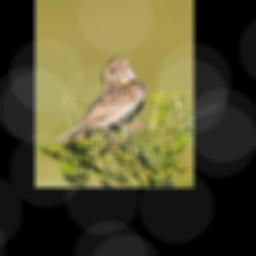Sparrow: (52, 53, 145, 145)
